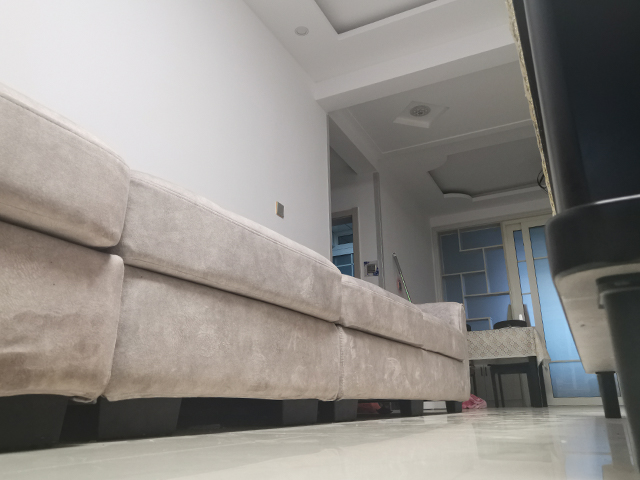sofa: (1, 84, 475, 454)
stool: (488, 319, 548, 410)
table: (505, 1, 640, 462), (465, 326, 549, 410)
